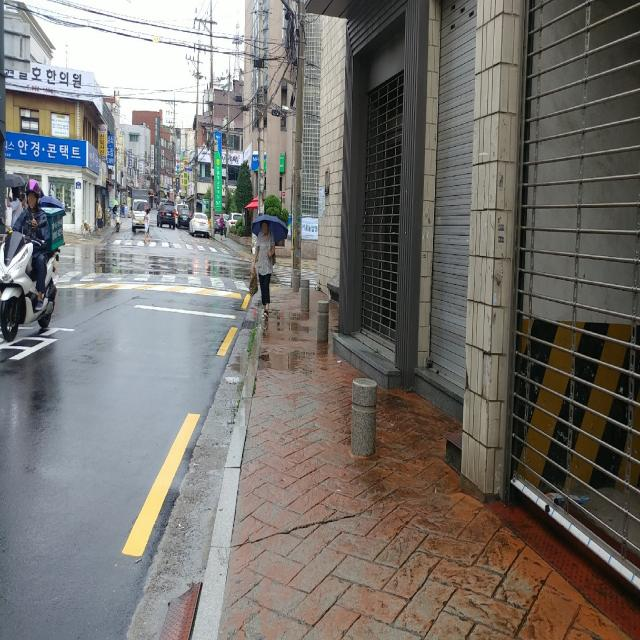횡단보도: (100, 233, 233, 254), (48, 274, 253, 284), (272, 263, 317, 287)
